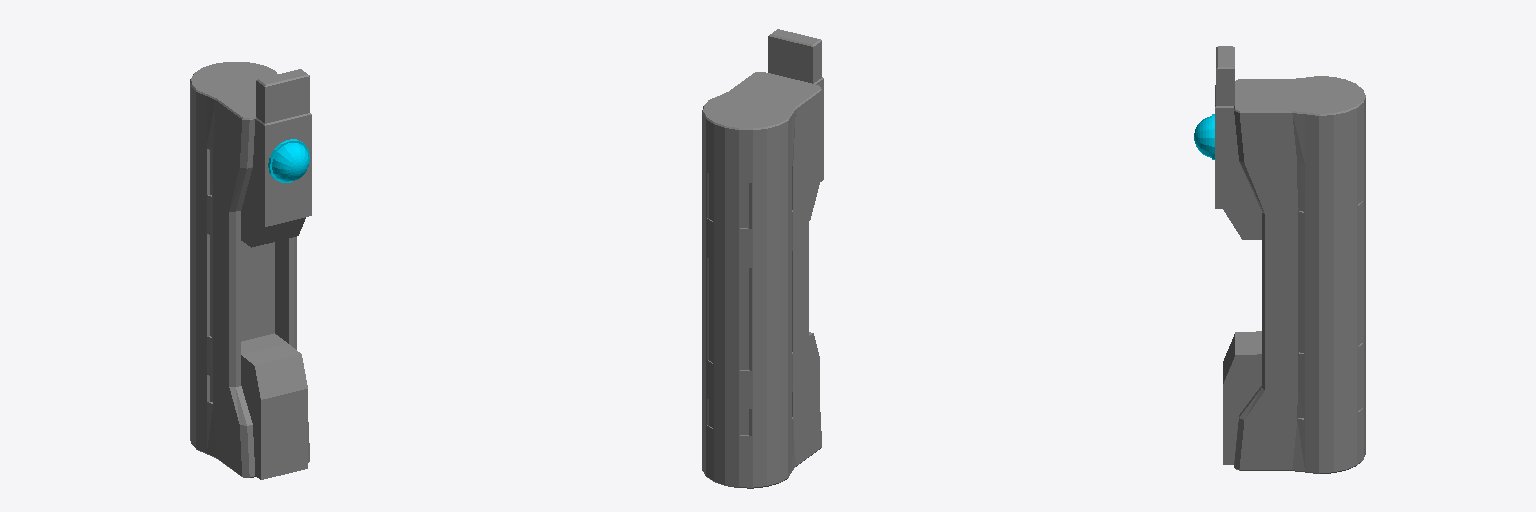
The model's file is weaponholder_goodtexture.obj.
3 views of the same model, side by side, from view 1: azimuth 30°, elevation 25°; view 2: azimuth 150°, elevation 25°; view 3: azimuth 270°, elevation 25° (orthographic).
Parts seen in each view (by area): view 1: g pSphere2 weaponholder_low_pSphere2 weaponholder_low, g weaponholderlght_low pSphere2_weaponholderlght_low pSphere2; view 2: g pSphere2 weaponholder_low_pSphere2 weaponholder_low; view 3: g pSphere2 weaponholder_low_pSphere2 weaponholder_low, g weaponholderlght_low pSphere2_weaponholderlght_low pSphere2.
Boxes of the visible parts, x1=… form: g pSphere2 weaponholder_low_pSphere2 weaponholder_low: x1=190, y1=62, x2=311, y2=479; g weaponholderlght_low pSphere2_weaponholderlght_low pSphere2: x1=268, y1=139, x2=309, y2=182; g pSphere2 weaponholder_low_pSphere2 weaponholder_low: x1=702, y1=29, x2=823, y2=488; g pSphere2 weaponholder_low_pSphere2 weaponholder_low: x1=1215, y1=46, x2=1365, y2=473; g weaponholderlght_low pSphere2_weaponholderlght_low pSphere2: x1=1194, y1=114, x2=1214, y2=159.
Bounding box in the file's own units: 5.77 × 27.33 × 10.69.